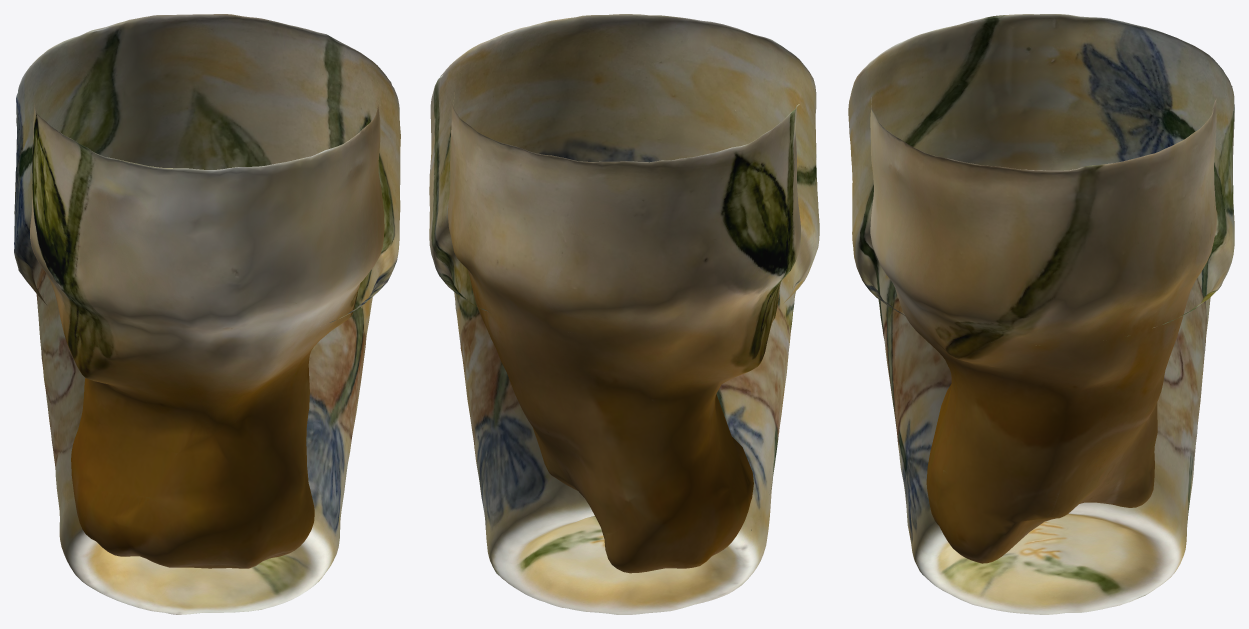
3 views of the same model, side by side, from view 1: azimuth 30°, elevation 25°; view 2: azimuth 150°, elevation 25°; view 3: azimuth 270°, elevation 25° (orthographic).
Size of the model in its own units: 0.0774 by 0.1048 by 0.0771.
1 material, 1 textured.
